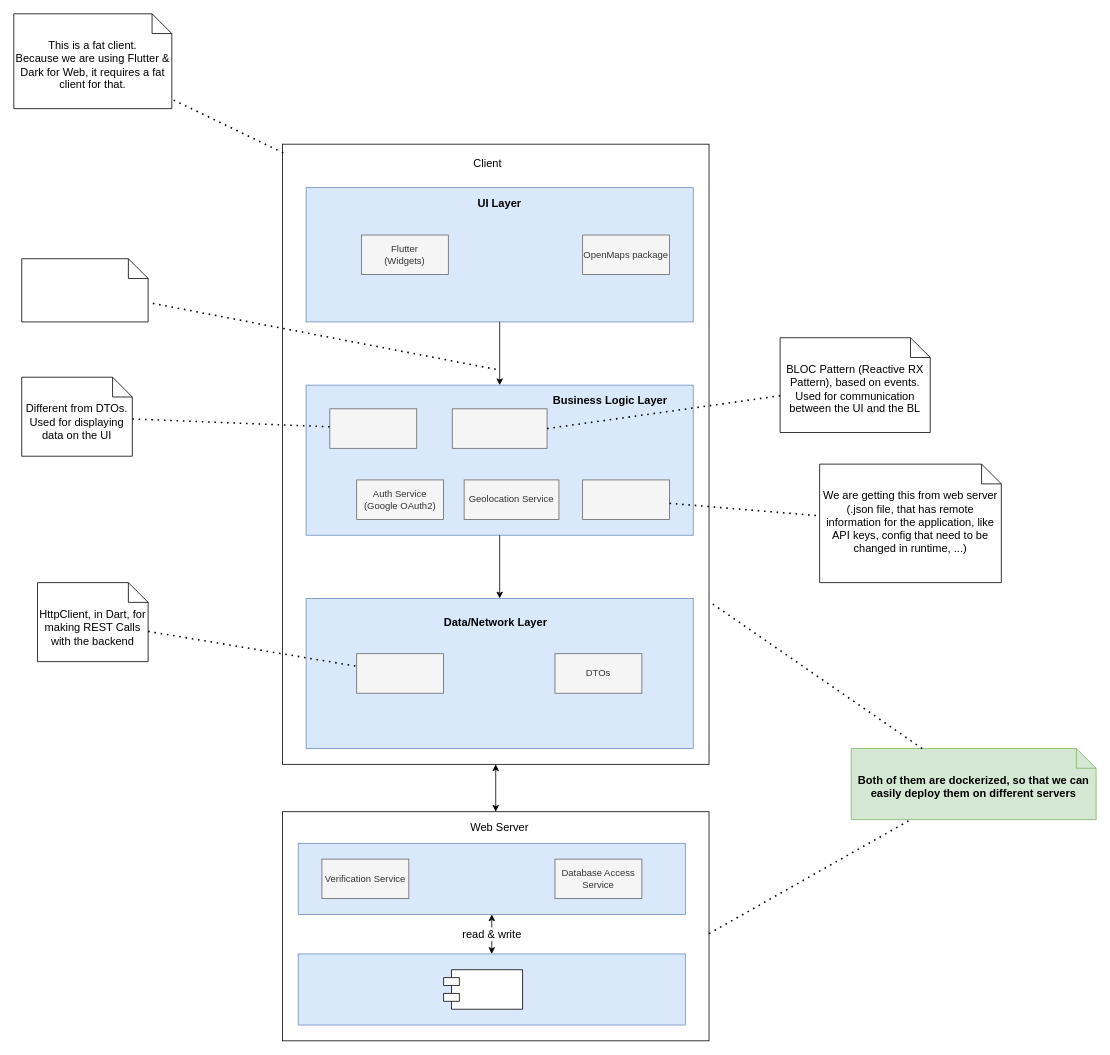
Image size: 1110x1055. Some labels were removed from this diagram. Each missing label, with the box of its shape:
BLOC & BLOC Provider: (451, 408, 547, 448)
Database: (443, 969, 523, 1009)
Dio: (356, 653, 444, 693)
Models: (329, 408, 417, 448)
Remote Config: (582, 479, 670, 519)
The flow is always from top to bottom.: (21, 258, 148, 322)
